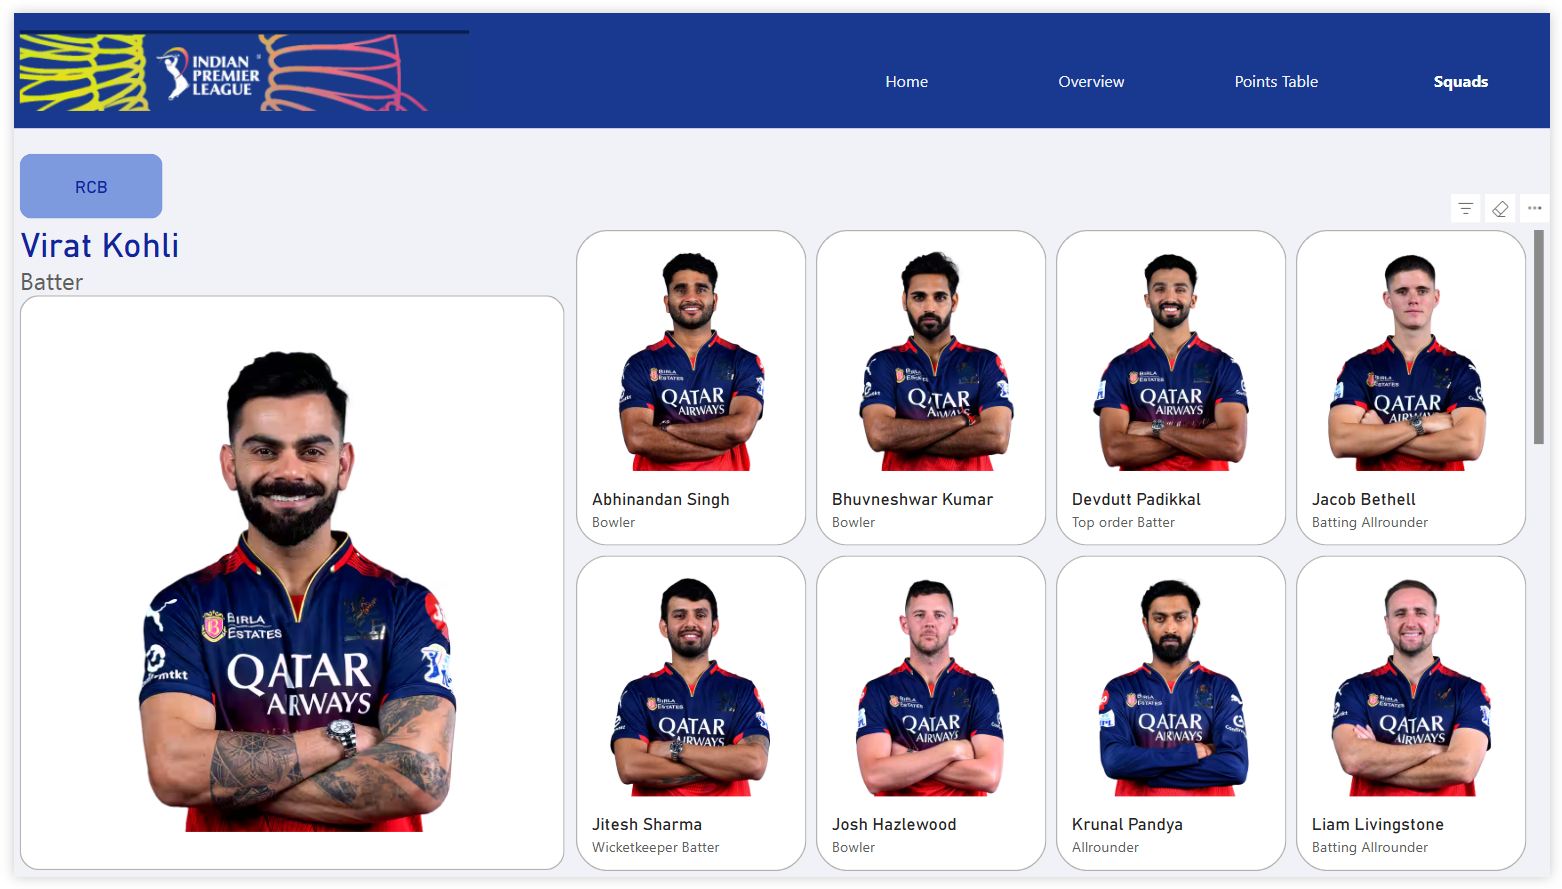

This screenshot's page, from the dashboard's own definition file:
{"tool":"powerbi","page":{"name":"Squads","canvas":[1280,720],"ordinal":3},"visuals":[{"type":"shape","box":[0,0,1280,96],"z":0},{"type":"pageNavigator","box":[672,32,608,48],"z":1000},{"type":"advancedSlicerVisual","fields":{"Values":["Players.PlayerName"]},"box":[464,176,816,544],"z":2000},{"type":"advancedSlicerVisual","fields":{"Values":["Players.Team_SN"]},"box":[0,112,1280,64],"z":3000},{"type":"cardVisual","fields":{"Data":["Min(Players.PlayerName)"]},"box":[0,176,464,544],"z":4000},{"type":"image","box":[0,0,384,96],"z":5000}]}

Visuals, with their boxes in screenshot pixels (x1, y1, x2, y2), scaled from the page's 1280x720 canvas onto the 1562x889 screenshot:
shape: <box>0,0,1561,119</box>
pageNavigator: <box>820,40,1561,99</box>
advancedSlicerVisual - Players.PlayerName: <box>566,217,1561,888</box>
advancedSlicerVisual - Players.Team_SN: <box>0,138,1561,217</box>
cardVisual - Min(Players.PlayerName): <box>0,217,566,888</box>
image: <box>0,0,469,119</box>
